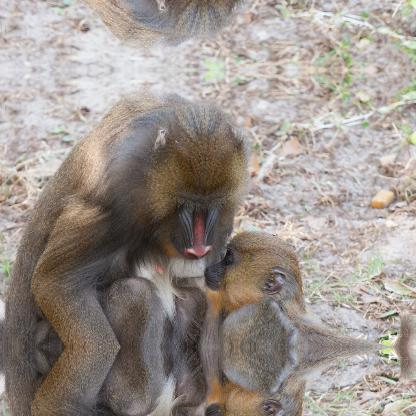Monkey: (0, 85, 255, 346), (206, 231, 414, 345), (0, 347, 255, 415), (206, 347, 414, 415), (0, 0, 255, 54)
